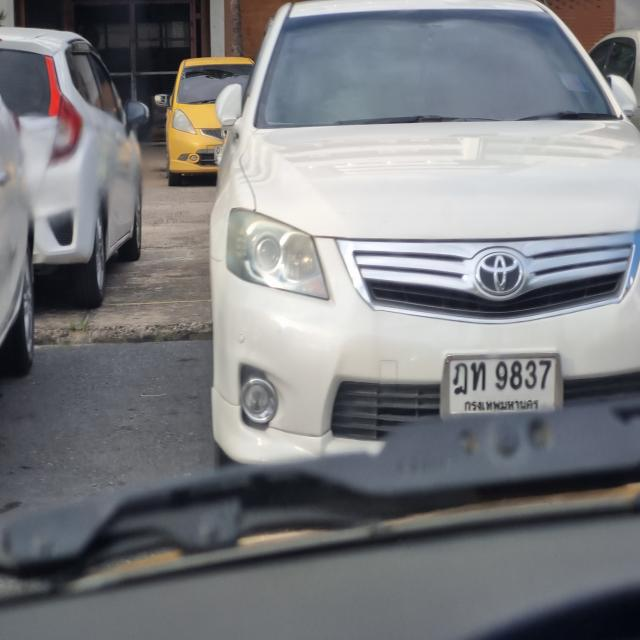license_plate: (438, 350, 565, 418)
